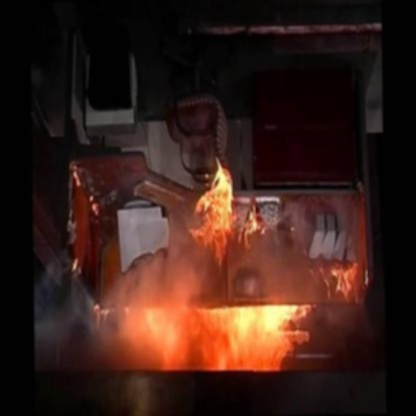fire: (57, 152, 368, 386)
